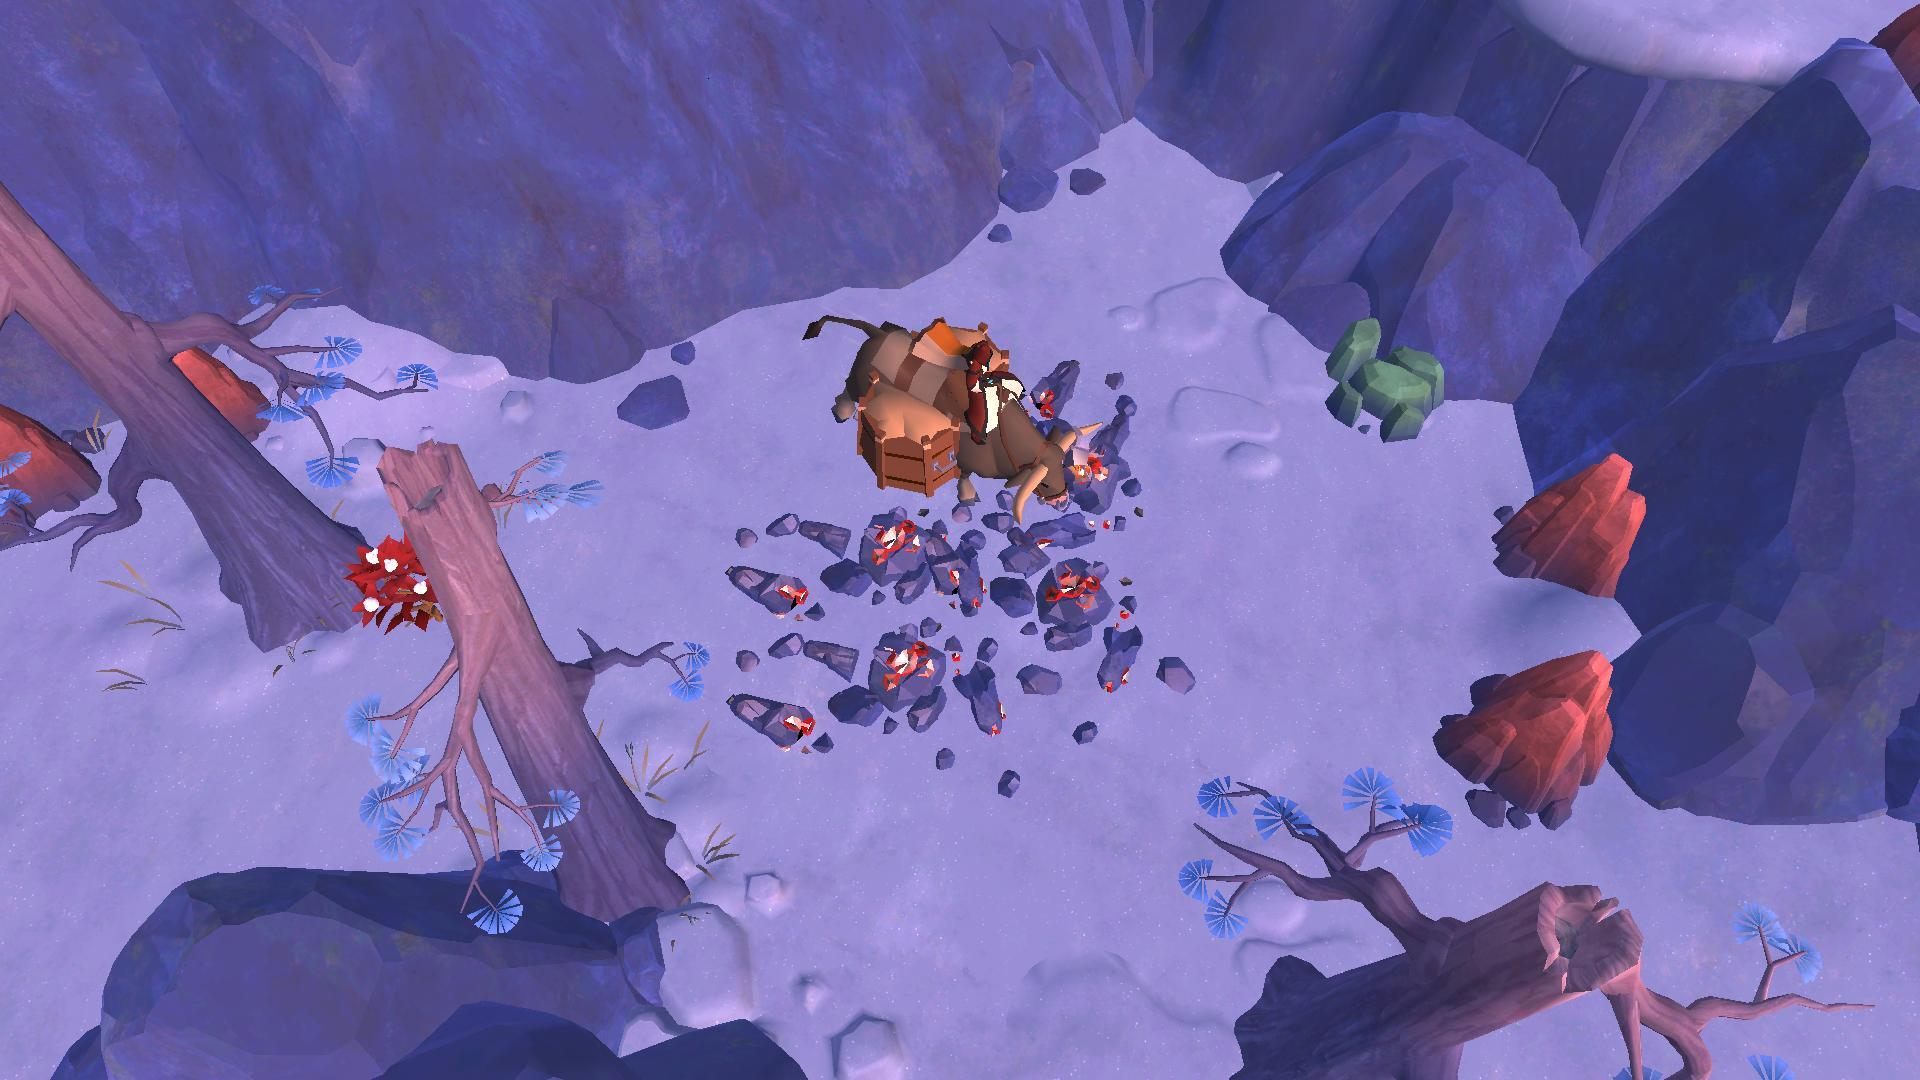fiber_t5: (349, 534, 443, 629)
rock_t3: (1317, 316, 1448, 442)
rock_t5: (1425, 640, 1611, 823), (1499, 438, 1644, 599), (0, 397, 105, 526), (156, 342, 276, 455)
